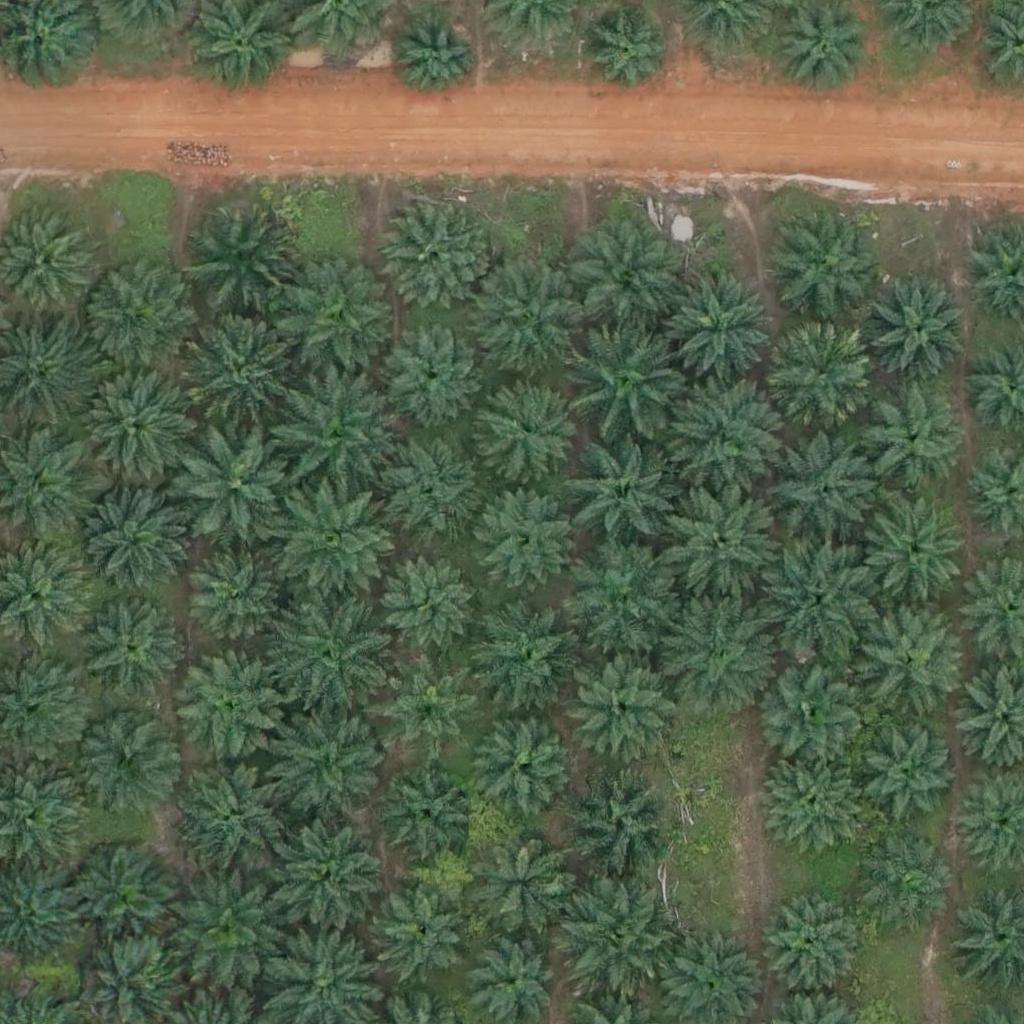Kelapa_Sawit: (768, 207, 881, 321), (666, 271, 779, 385), (666, 480, 779, 594), (565, 540, 678, 654), (282, 481, 395, 595), (179, 425, 292, 539), (851, 598, 964, 711), (760, 535, 873, 648), (764, 321, 877, 434), (662, 385, 775, 498), (659, 599, 772, 712), (572, 322, 685, 435), (470, 596, 583, 709), (562, 892, 675, 1005), (379, 203, 492, 316), (277, 264, 390, 377), (169, 872, 282, 985), (176, 756, 289, 869), (168, 645, 281, 758), (80, 260, 193, 373), (81, 364, 194, 477), (74, 596, 187, 709), (69, 704, 182, 817), (66, 838, 179, 951), (853, 387, 965, 501), (767, 431, 879, 545), (476, 260, 588, 374), (277, 710, 389, 824), (572, 660, 684, 773), (566, 435, 678, 548), (570, 223, 682, 336), (560, 763, 672, 876), (370, 431, 482, 544), (280, 379, 392, 492), (276, 599, 388, 712), (273, 816, 385, 929), (189, 200, 301, 313), (182, 311, 294, 424), (75, 489, 187, 602), (866, 283, 966, 384), (864, 503, 964, 604), (856, 832, 956, 933), (766, 897, 866, 998), (761, 660, 861, 761), (478, 376, 578, 477), (478, 722, 578, 823), (474, 833, 574, 934), (381, 757, 481, 858), (375, 549, 475, 650), (380, 317, 480, 418), (857, 723, 957, 823), (765, 751, 865, 851), (477, 487, 577, 587), (374, 881, 474, 981), (380, 656, 480, 756), (184, 545, 284, 645), (585, 14, 673, 102), (392, 14, 479, 102)
